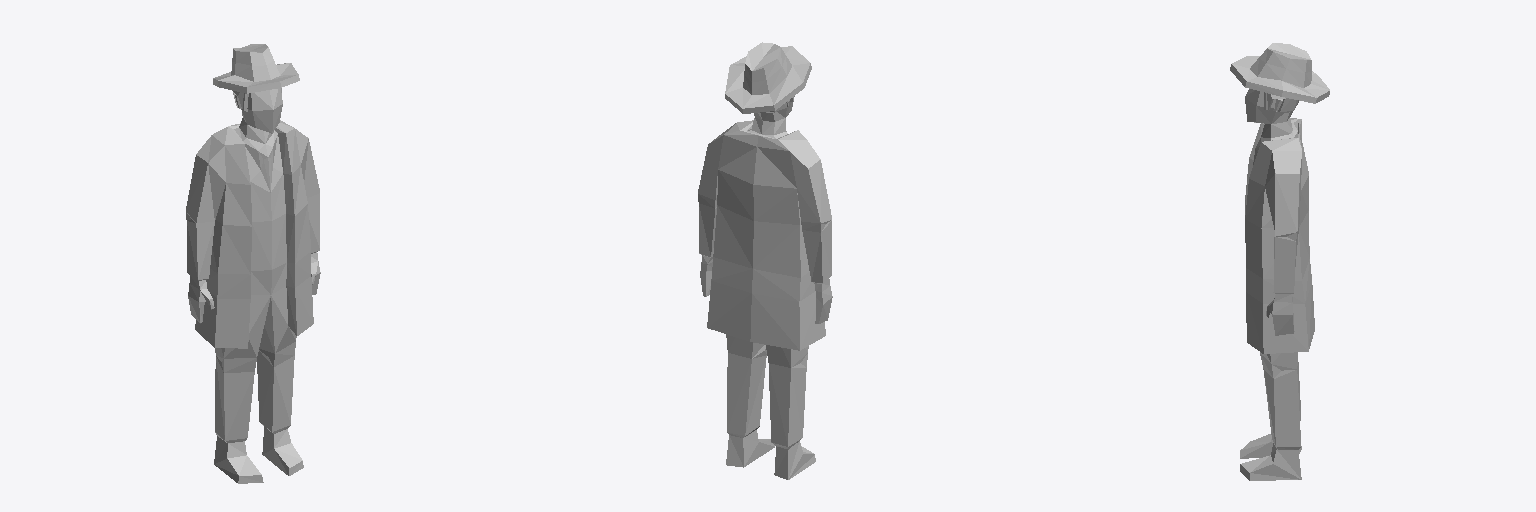
Rendered from man.obj.
The picture shows the model from 3 angles: view 1: azimuth 30°, elevation 25°; view 2: azimuth 150°, elevation 25°; view 3: azimuth 270°, elevation 25°; orthographic projection.
Parts seen in each view (by area): view 1: mesh_0; view 2: mesh_0; view 3: mesh_0.
Part boxes in pixels (x1,y1,x2,y2): mesh_0: (186,44,320,483); mesh_0: (698,42,832,479); mesh_0: (1230,43,1329,480).
Bounding box in the file's own units: 0.2422 × 0.7789 × 0.1708.